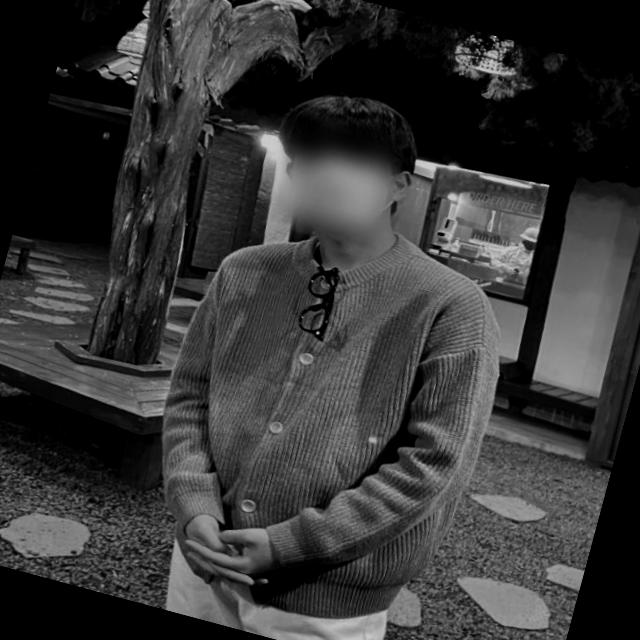cardigan: (116, 190, 525, 640)
cottonpants: (151, 523, 404, 640)
